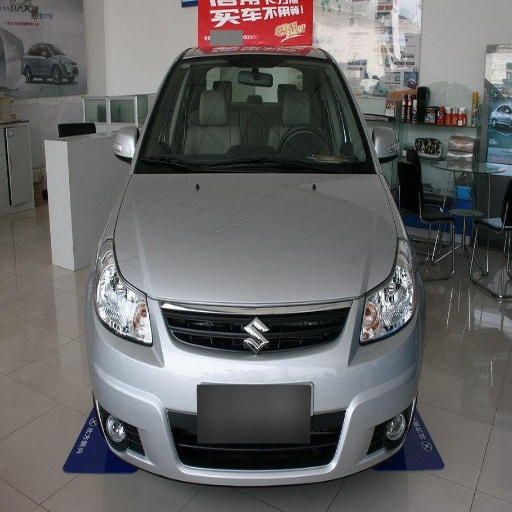front_bumper: (95, 296, 421, 483)
front_right_light: (93, 239, 152, 344)
hood: (117, 169, 394, 306)
